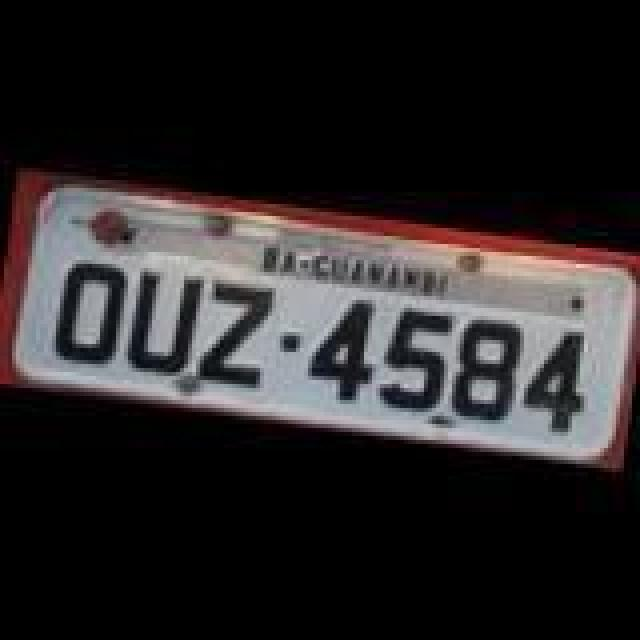4: (296, 294, 384, 410), (522, 324, 598, 436)
5: (376, 304, 456, 416)
8: (446, 316, 530, 428)
O: (48, 254, 128, 370)
U: (116, 266, 204, 382)
Z: (194, 278, 286, 394)
